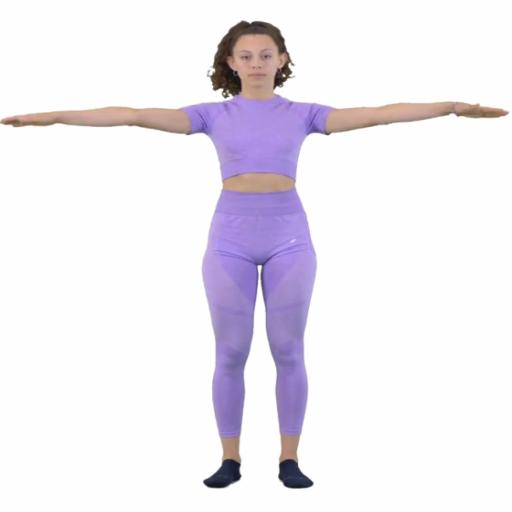Normal_SquatsWithBarbell: (0, 0, 511, 509)
